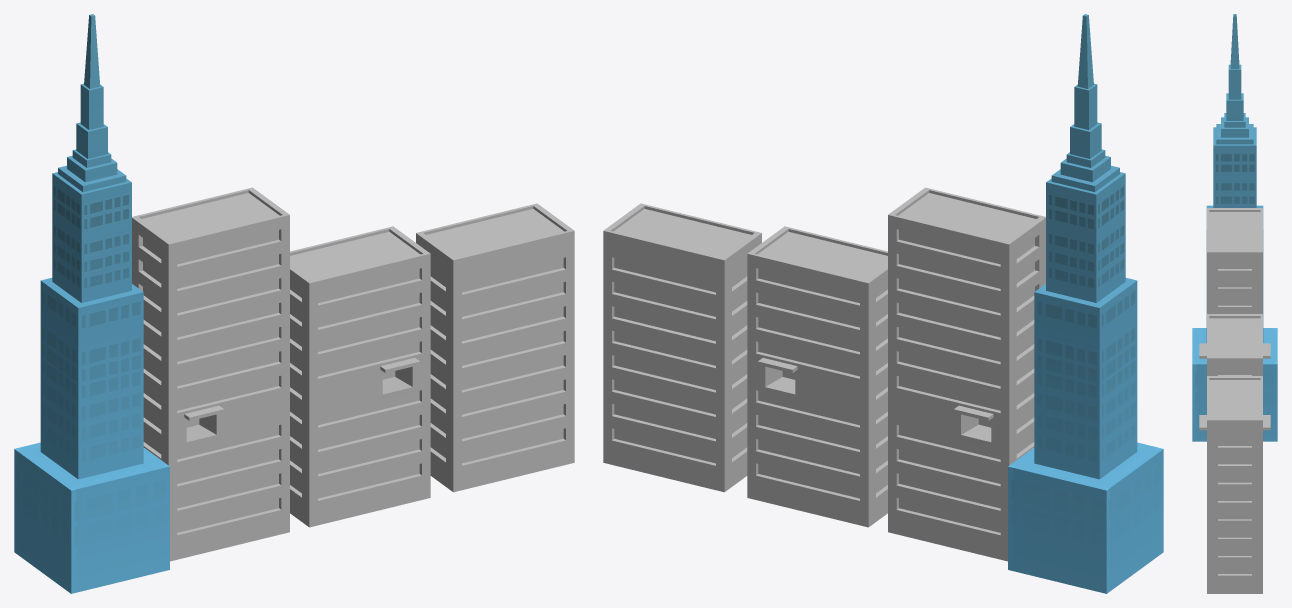
File: building.fbx
The picture shows the model from 3 angles, left to right: view 1: azimuth 30°, elevation 25°; view 2: azimuth 150°, elevation 25°; view 3: azimuth 270°, elevation 25°; orthographic projection. The views are drawn at different scales.
Parts seen in each view (by area): view 1: bina3, Cube.001, Cube, Cube.002; view 2: bina3, Cube.001, Cube, Cube.002; view 3: Cube.002, bina3, Cube.001, Cube.
Boxes of the visible parts, left/top/right/bottom form: bina3: left=14, top=14, right=169, bottom=593; Cube.001: left=132, top=187, right=289, bottom=561; Cube: left=290, top=226, right=430, bottom=527; Cube.002: left=416, top=203, right=574, bottom=492; bina3: left=1008, top=14, right=1163, bottom=593; Cube.001: left=888, top=187, right=1045, bottom=561; Cube: left=747, top=226, right=887, bottom=527; Cube.002: left=603, top=203, right=761, bottom=492; Cube.002: left=1207, top=376, right=1262, bottom=593; bina3: left=1192, top=14, right=1277, bottom=441; Cube.001: left=1199, top=208, right=1270, bottom=358; Cube: left=1199, top=314, right=1270, bottom=430.
Bounding box in the file's own units: 15.82 × 16.11 × 3.04.
